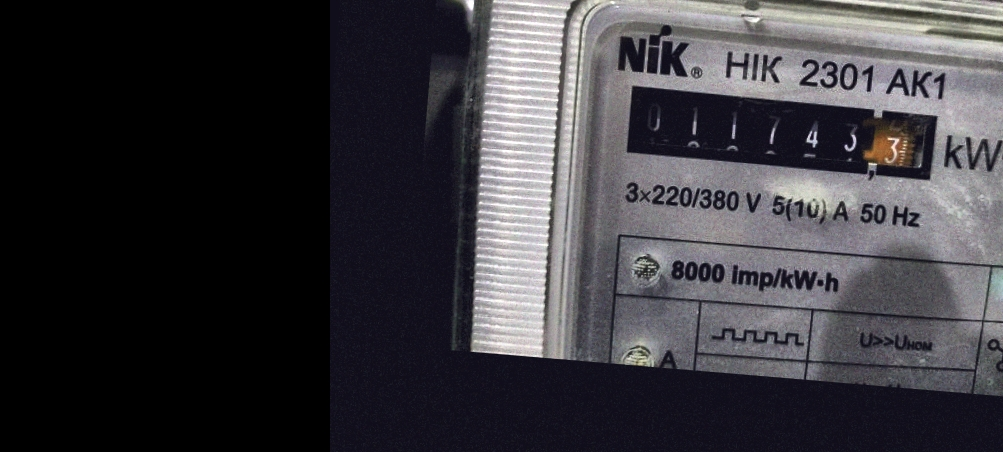0: (642, 97, 664, 135)
1: (725, 105, 743, 140), (688, 102, 701, 136)
3: (838, 118, 860, 154), (881, 133, 902, 168)
4: (801, 115, 821, 150)
7: (763, 110, 783, 146)
screen: (610, 72, 951, 193)
